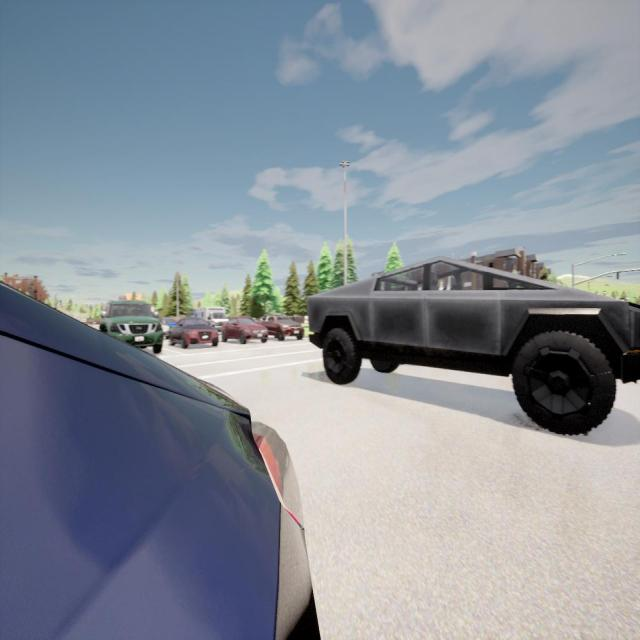Vehicle: (1, 281, 320, 640), (308, 257, 640, 434), (100, 300, 163, 355), (170, 306, 218, 354), (222, 316, 266, 346), (260, 312, 304, 341), (193, 305, 230, 333), (157, 316, 177, 338)
traffic_light: (617, 272, 619, 280)
